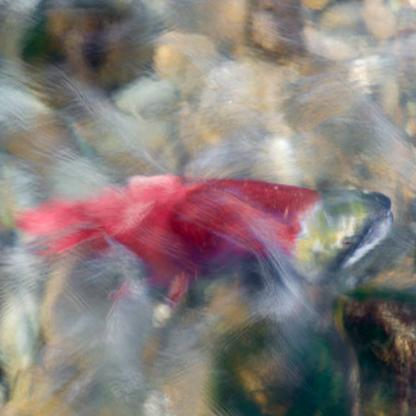sockeye: (0, 171, 388, 300)
